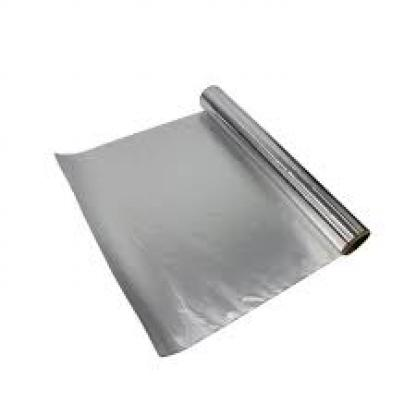METAL: (54, 81, 370, 357)
